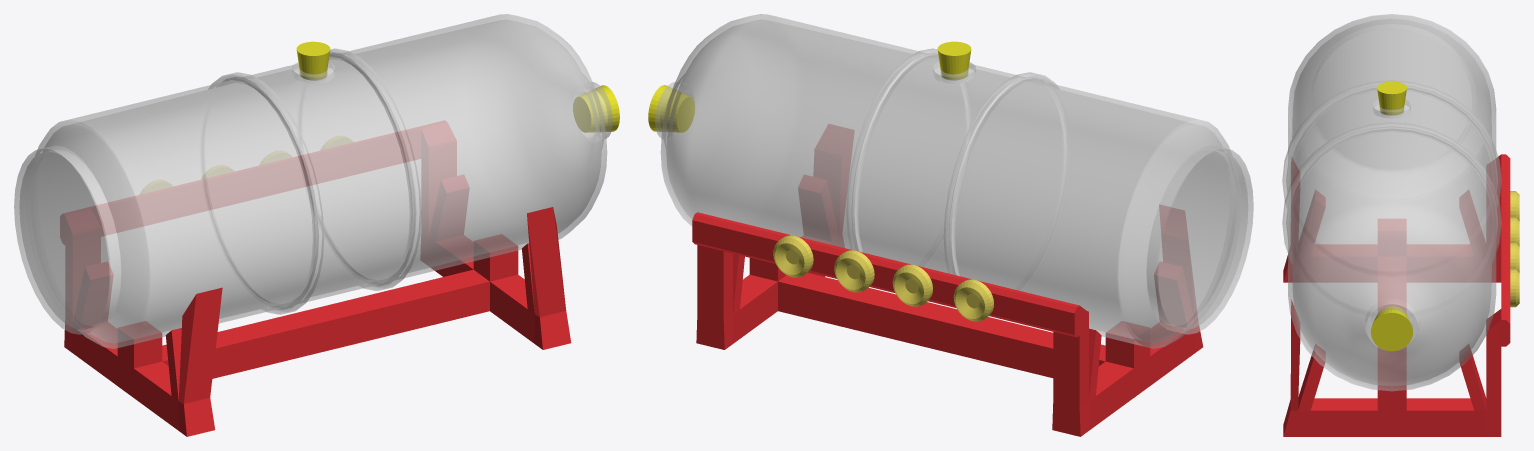
The model's file is barrel_.fbx.
3 views of the same model, side by side, from view 1: azimuth 30°, elevation 25°; view 2: azimuth 150°, elevation 25°; view 3: azimuth 270°, elevation 25° (orthographic). The views are drawn at different scales.
Visible parts, largest first — view 1: barrel, pidstavka, probka, 1; view 2: barrel, pidstavka, 1, probka; view 3: barrel, pidstavka, probka, 1.
Boxes of the visible parts, x1,y1,x2,y2 form: barrel: [14, 14, 612, 348]; pidstavka: [60, 121, 571, 436]; probka: [296, 41, 619, 132]; 1: [140, 136, 352, 193]; barrel: [655, 14, 1253, 348]; pidstavka: [692, 124, 1203, 436]; 1: [773, 235, 993, 321]; probka: [648, 41, 971, 132]; barrel: [1282, 14, 1501, 391]; pidstavka: [1283, 154, 1510, 436]; probka: [1371, 81, 1412, 351]; 1: [1510, 191, 1519, 307].
Bounding box in the file's own units: 189 × 98.44 × 80.18.
